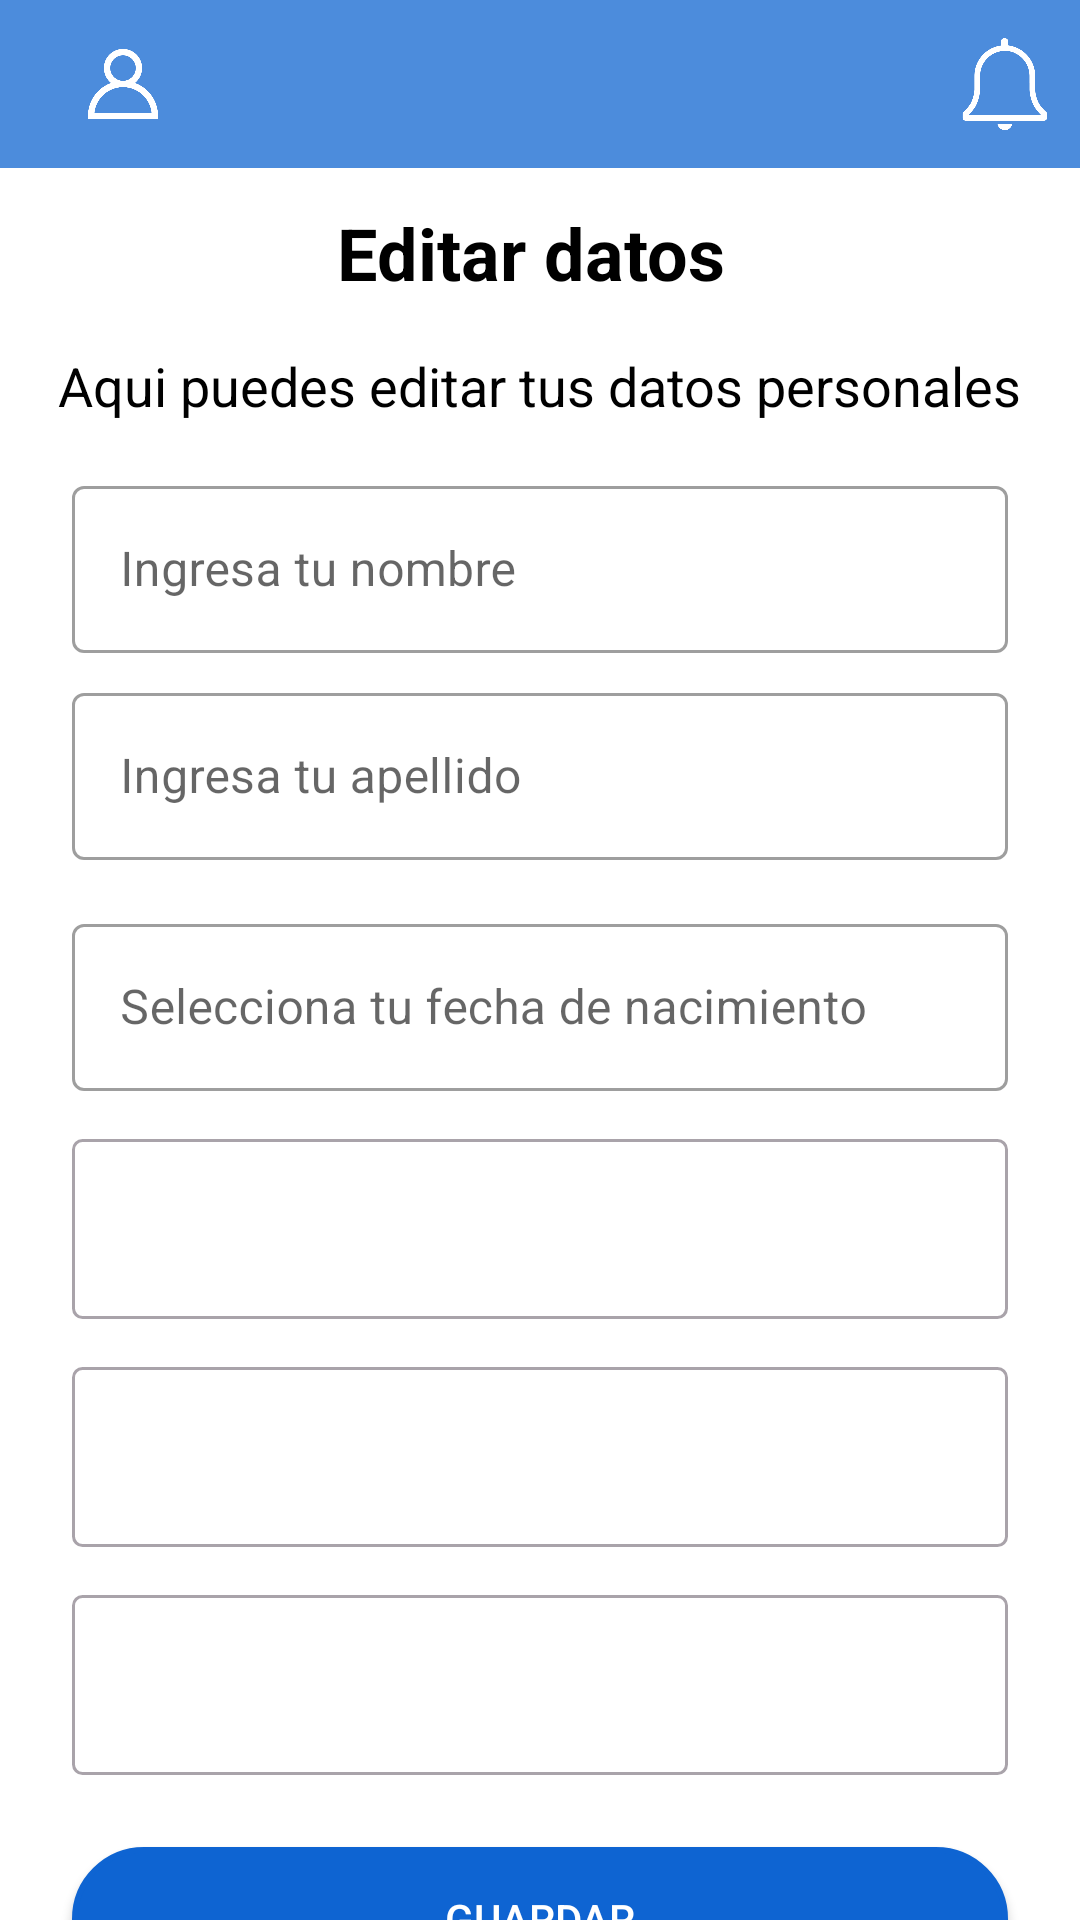

Locate icon controls on the screen. Image size 1080*1920, boxes as {"x1": x1, "y1": y1, "x2": x2, "y2": y2}.
Notification Icon: {"x1": 963, "y1": 38, "x2": 1047, "y2": 130}
User Icon: {"x1": 88, "y1": 49, "x2": 158, "y2": 119}
